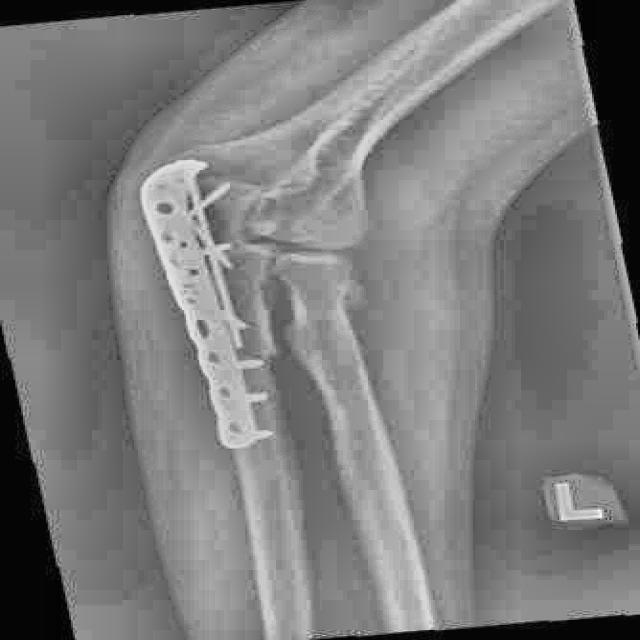elbow positive: (208, 131, 356, 211)
